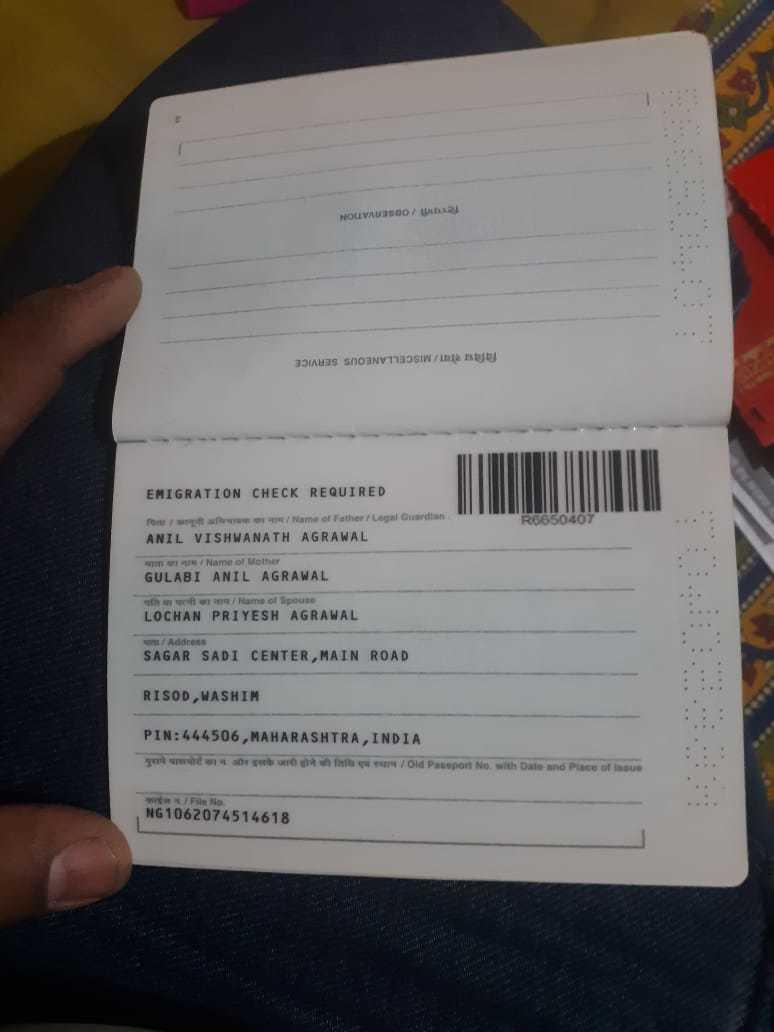File_no: (138, 804, 302, 830)
address: (134, 646, 451, 752)
father_name: (136, 522, 379, 552)
mother_name: (136, 560, 340, 595)
passport_no: (517, 511, 609, 532)
spouse_name: (132, 600, 376, 628)
